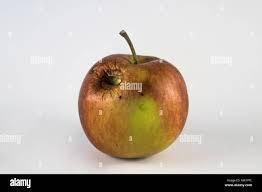Apple: (78, 54, 188, 161)
